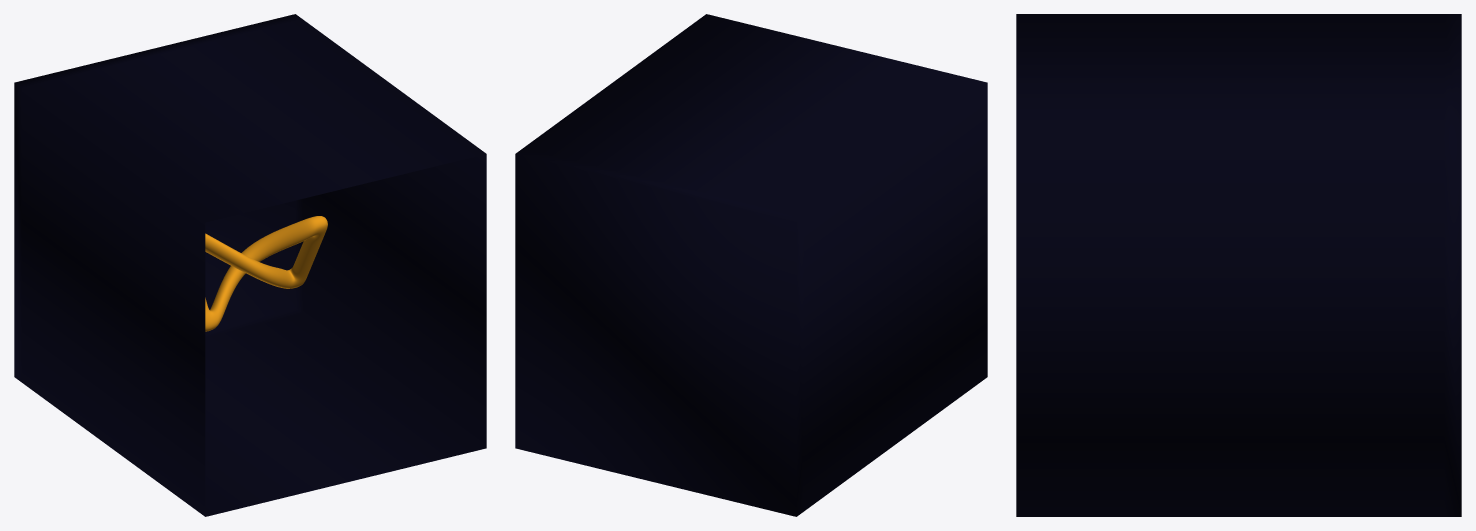
3 views of the same model, side by side, from view 1: azimuth 30°, elevation 25°; view 2: azimuth 150°, elevation 25°; view 3: azimuth 270°, elevation 25° (orthographic). The views are drawn at different scales.
Parts seen in each view (by area): view 1: BG, Model Infinito; view 2: BG; view 3: BG.
Boxes of the visible parts, bbox=[...] form: BG: bbox=[14, 14, 486, 516]; Model Infinito: bbox=[205, 216, 327, 331]; BG: bbox=[515, 14, 987, 516]; BG: bbox=[1016, 14, 1461, 516].
Size of the model in its own units: 8.5 by 8.5 by 10.01.
